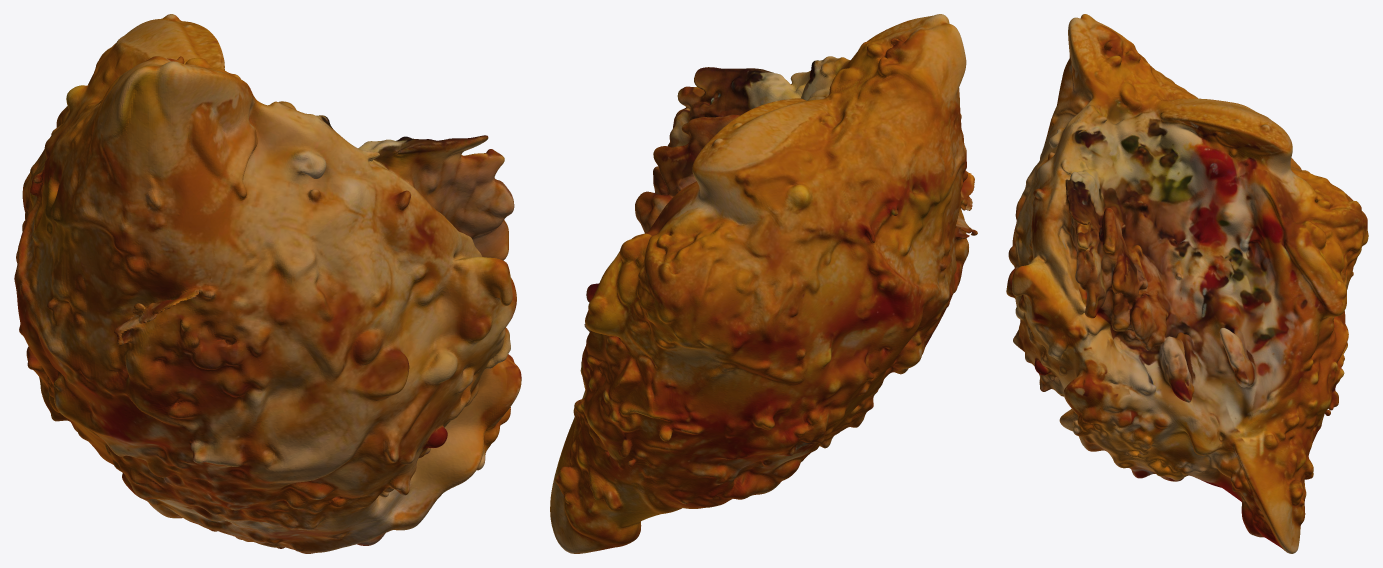
Rendered from matambre-3D-NO.glb.
The picture shows the model from 3 angles, left to right: view 1: azimuth 30°, elevation 25°; view 2: azimuth 150°, elevation 25°; view 3: azimuth 270°, elevation 25°; orthographic projection. The views are drawn at different scales.
Visible parts, largest first — view 1: tripo_node_63c22759-3198-45bd-a2ec-cee884388898; view 2: tripo_node_63c22759-3198-45bd-a2ec-cee884388898; view 3: tripo_node_63c22759-3198-45bd-a2ec-cee884388898.
Boxes of the visible parts, box(x1,y1,x2,y2) form: tripo_node_63c22759-3198-45bd-a2ec-cee884388898: box(14, 14, 521, 553); tripo_node_63c22759-3198-45bd-a2ec-cee884388898: box(550, 14, 977, 553); tripo_node_63c22759-3198-45bd-a2ec-cee884388898: box(1006, 14, 1368, 553).
Size of the model in its own units: 0.7086 by 1 by 0.759.
1 material, 1 textured.
